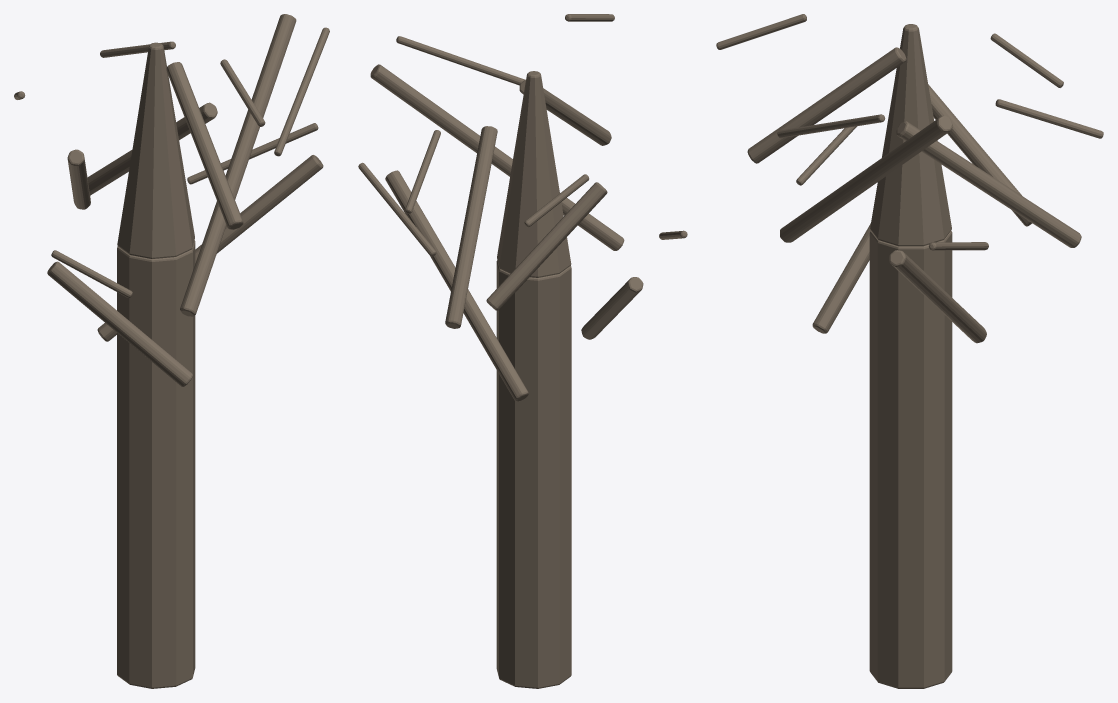
The model's file is deadtree.glb.
The picture shows the model from 3 angles, left to right: view 1: azimuth 30°, elevation 25°; view 2: azimuth 150°, elevation 25°; view 3: azimuth 270°, elevation 25°; orthographic projection. The views are drawn at different scales.
Visible parts, largest first — view 1: trunk; view 2: trunk; view 3: trunk.
Part boxes in pixels (box(x1,y1,x2,y2)): trunk: box(14, 14, 329, 688); trunk: box(358, 14, 687, 688); trunk: box(716, 14, 1103, 688).
Size of the model in its own units: 1.93 by 3.92 by 2.06.
